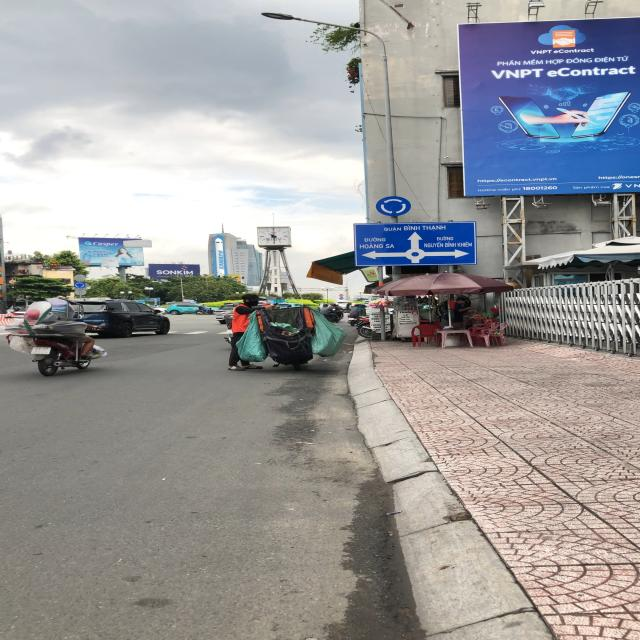Bien bao noi giao nhau chay theo vong xuyen: (370, 195, 416, 218), (73, 280, 87, 288)
